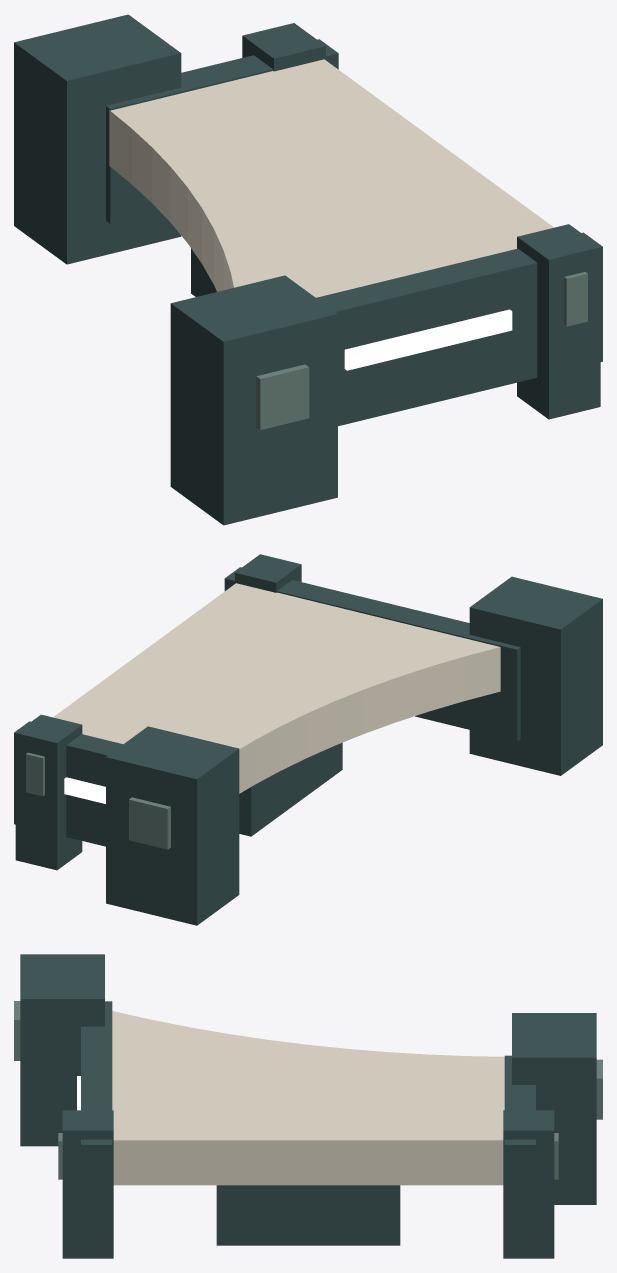
The model's file is Pier_Angled_15_lab.glb.
3 renders of one model, top to bottom at view 1: azimuth 30°, elevation 25°; view 2: azimuth 150°, elevation 25°; view 3: azimuth 270°, elevation 25°, orthographic. The views are drawn at different scales.
Visible parts, largest first — view 1: Pier_Angled_15; view 2: Pier_Angled_15; view 3: Pier_Angled_15.
Boxes of the visible parts, bbox=[...] form: Pier_Angled_15: bbox=[14, 14, 602, 525]; Pier_Angled_15: bbox=[14, 554, 602, 925]; Pier_Angled_15: bbox=[14, 954, 602, 1258].
Bounding box in the file's own units: 2.74 × 1.15 × 4.17.
